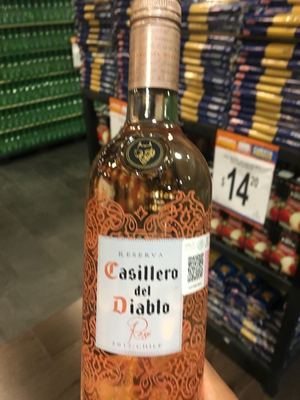casillero del diablo rose: (74, 11, 243, 400)
